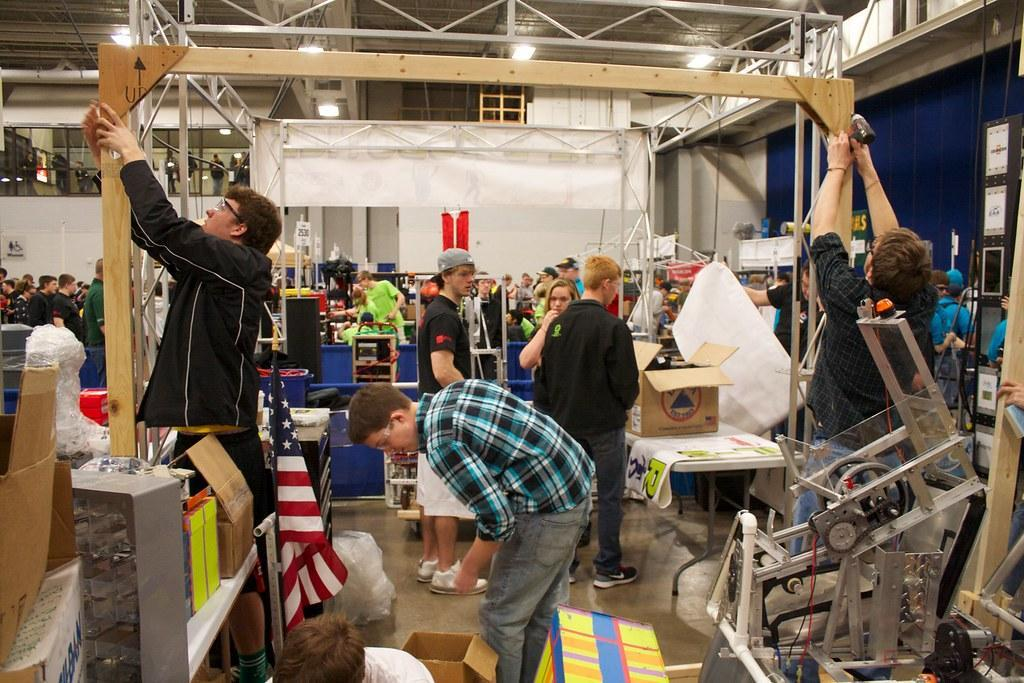robot: (700, 296, 1024, 683)
